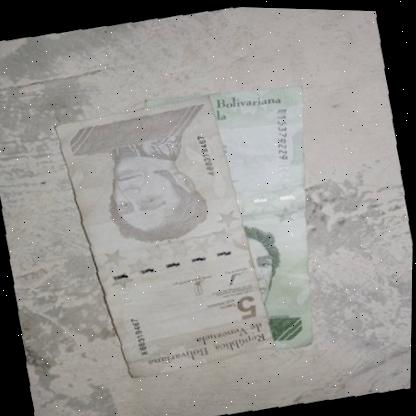fifty-front-vef: (140, 64, 356, 368)
